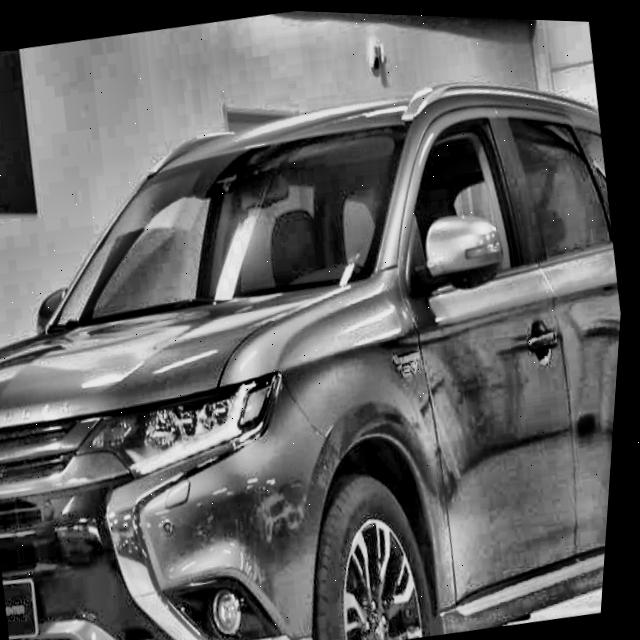light_vehicle: (0, 39, 638, 640)
